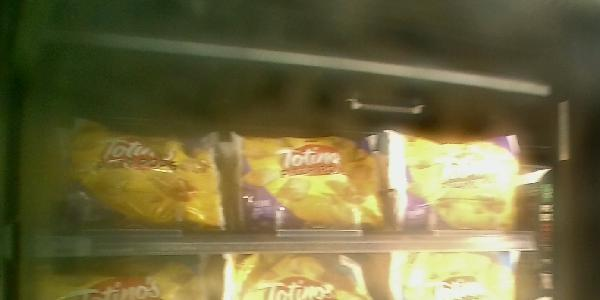icecream: (57, 115, 230, 236), (230, 120, 388, 233), (384, 125, 528, 231)
